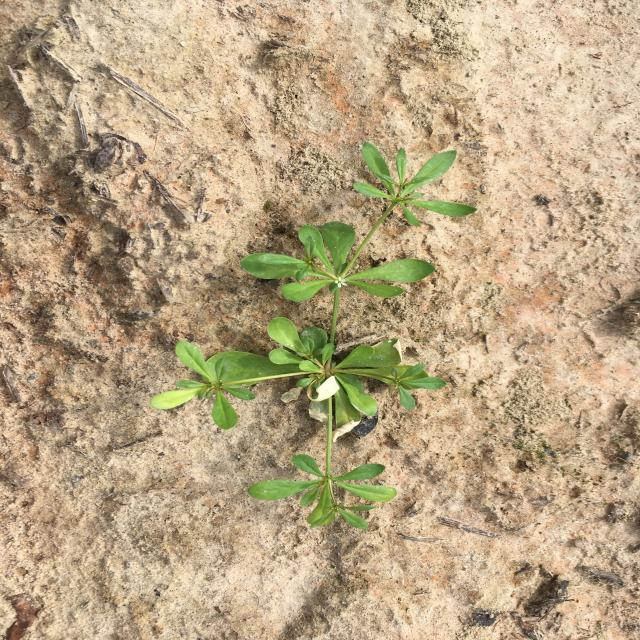Carpetweed: (150, 141, 478, 530)
